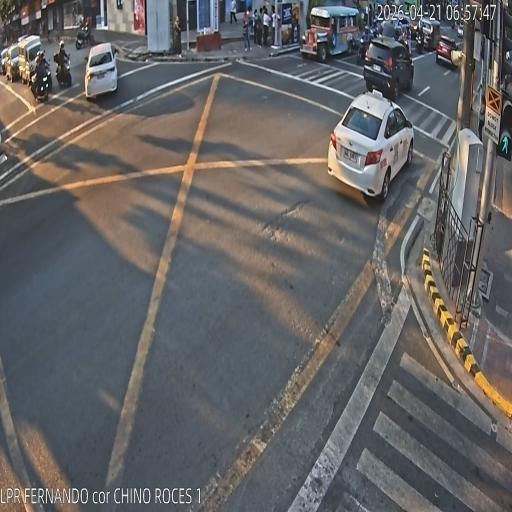Car: (328, 74, 412, 212), (364, 34, 418, 111), (83, 42, 123, 104), (18, 37, 50, 79), (437, 33, 456, 76), (4, 48, 24, 82), (0, 52, 10, 78)
Motor: (51, 36, 80, 91), (30, 53, 53, 111), (356, 20, 378, 68), (414, 15, 427, 59), (399, 24, 413, 61)
